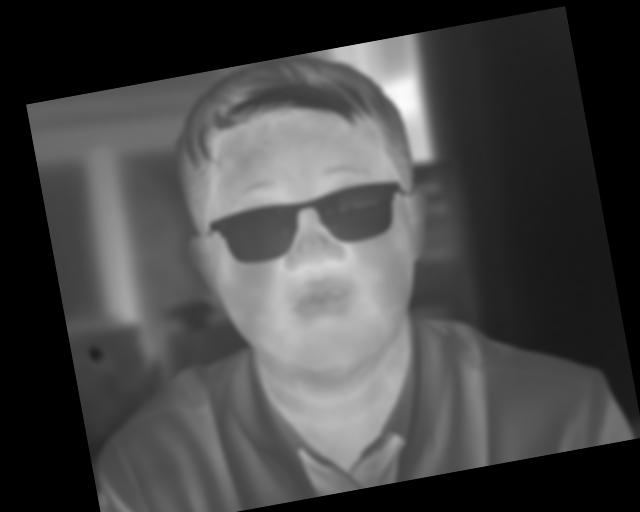face: (159, 37, 459, 401)
